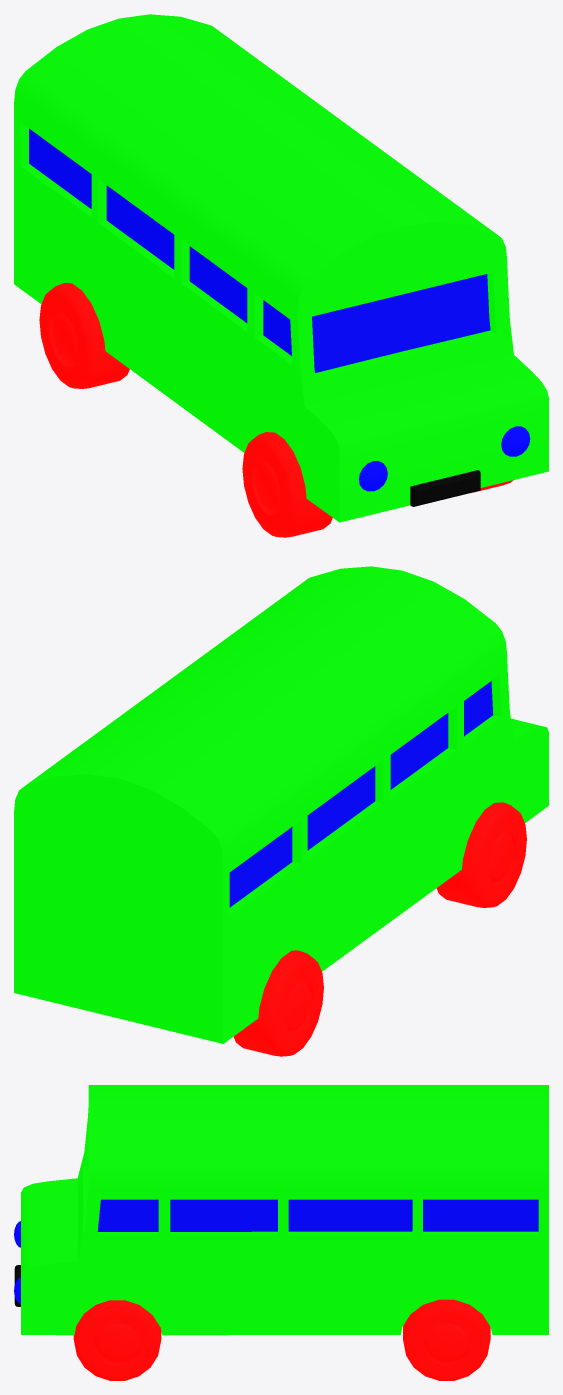
Rendered from Env_mesh_car_006.FBX.
The picture shows the model from 3 angles, top to bottom: view 1: azimuth 30°, elevation 25°; view 2: azimuth 150°, elevation 25°; view 3: azimuth 270°, elevation 25°; orthographic projection. The views are drawn at different scales.
Visible parts, largest first — view 1: Env_mesh_car_006; view 2: Env_mesh_car_006; view 3: Env_mesh_car_006.
Boxes of the visible parts, x1,y1,x2,y2 form: Env_mesh_car_006: (14, 14, 548, 537); Env_mesh_car_006: (14, 566, 548, 1056); Env_mesh_car_006: (14, 1085, 548, 1380).
Size of the model in its own units: 263 by 310 by 632.
